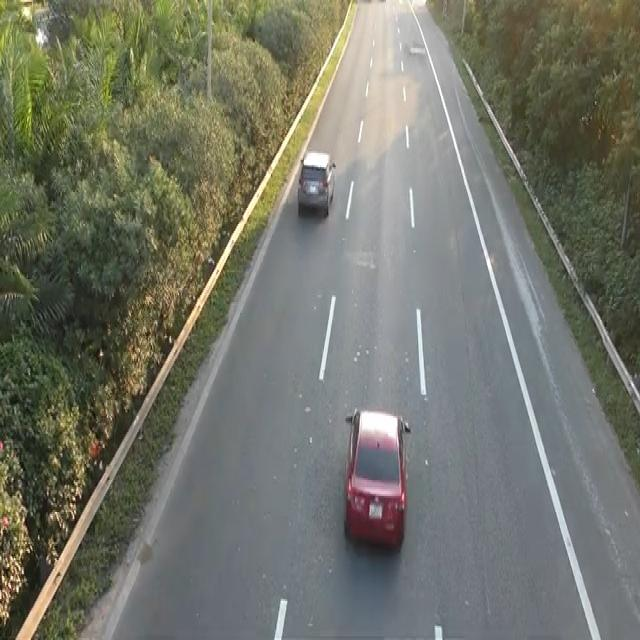bus: (341, 402, 412, 553)
car: (295, 146, 339, 224)
